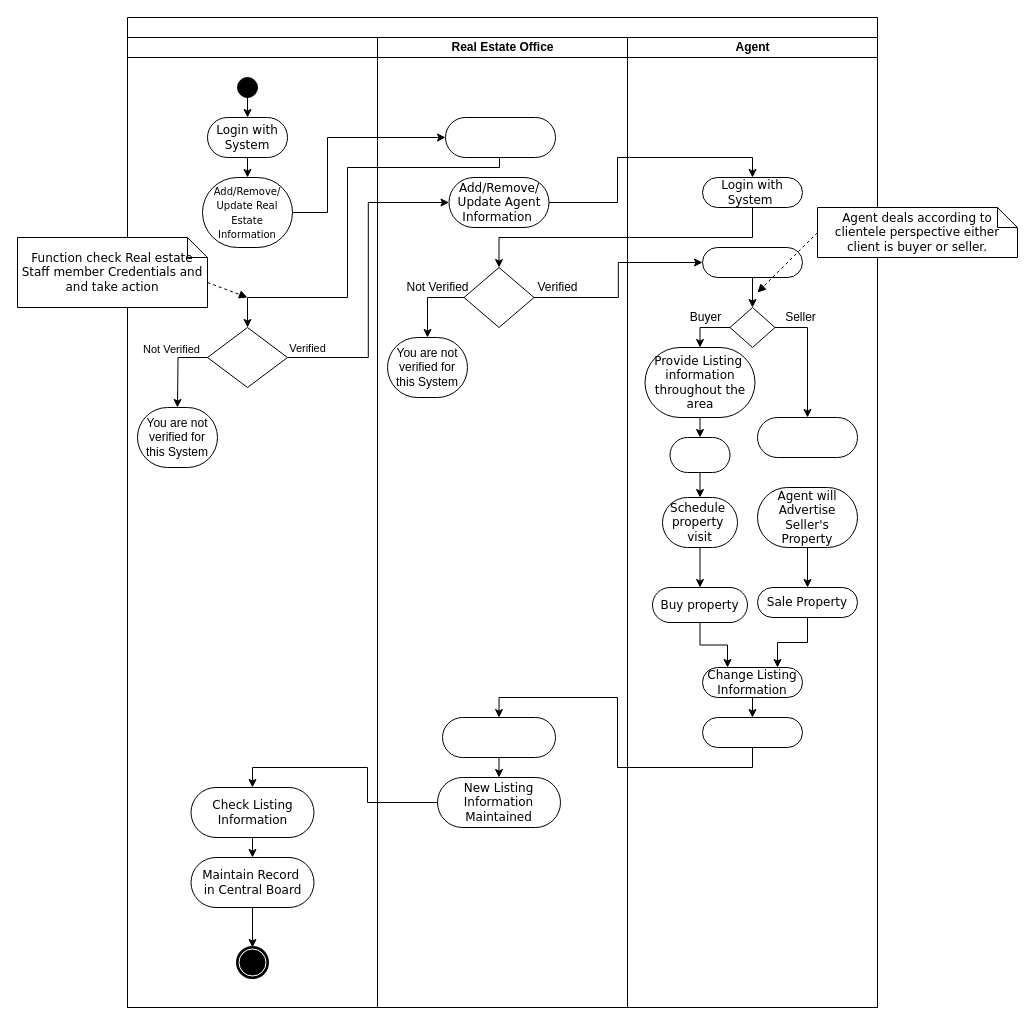
Some shapes in this 1035 by 1025 pixel diagram are drawn without their labels. Each missing label, with the box of its shape:
Broad Listing of Property: (756, 416, 858, 458)
Deal with Clientele: (702, 246, 802, 278)
Enter in System: (702, 716, 802, 748)
Login and verified by Manager: (444, 116, 556, 158)
Manager: (126, 36, 378, 1008)
Prepare Listing Books: (442, 716, 556, 758)
provide images: (669, 436, 730, 472)
Verify Agent: (463, 266, 534, 328)
Verify Office Staff: (206, 326, 288, 388)
